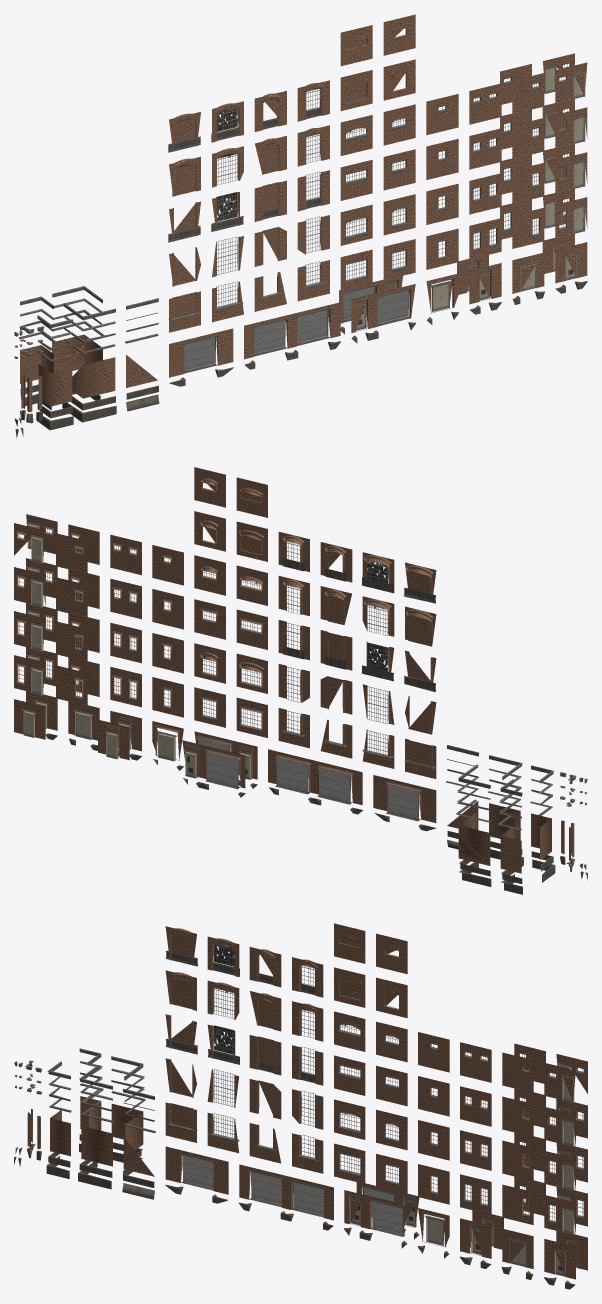
The model's file is factory-far.glb.
3 renders of one model, top to bottom at view 1: azimuth 30°, elevation 25°; view 2: azimuth 150°, elevation 25°; view 3: azimuth 330°, elevation 25°, orthographic.
Parts seen in each view (by area): view 1: wall_standard_standard_01, window_centered_medium_03, dado_standard_corner_large_01, cornice02_standard_standard_01, door_recessed_large_01; view 2: wall_standard_standard_01, window_centered_medium_03, dado_standard_corner_large_01, cornice02_standard_standard_01, door_recessed_large_01; view 3: wall_standard_standard_01, window_centered_medium_03, dado_standard_corner_large_01, cornice02_standard_standard_01, door_recessed_large_01.
Part boxes in pixels (<box>): wall_standard_standard_01: <box>20,14,587,412</box>; window_centered_medium_03: <box>19,61,586,361</box>; dado_standard_corner_large_01: <box>14,281,587,426</box>; cornice02_standard_standard_01: <box>14,107,324,438</box>; door_recessed_large_01: <box>356,67,585,330</box>; wall_standard_standard_01: <box>14,467,574,873</box>; window_centered_medium_03: <box>16,522,552,830</box>; dado_standard_corner_large_01: <box>45,733,586,883</box>; cornice02_standard_standard_01: <box>282,558,587,894</box>; door_recessed_large_01: <box>23,524,251,779</box>; wall_standard_standard_01: <box>27,923,587,1279</box>; window_centered_medium_03: <box>49,944,584,1252</box>; dado_standard_corner_large_01: <box>15,1134,575,1289</box>; cornice02_standard_standard_01: <box>14,950,317,1199</box>; door_recessed_large_01: <box>350,1063,577,1276</box>.
Size of the model in its own units: 53.33 by 29 by 5.36.
Materials: 6 (6 with a texture image).
